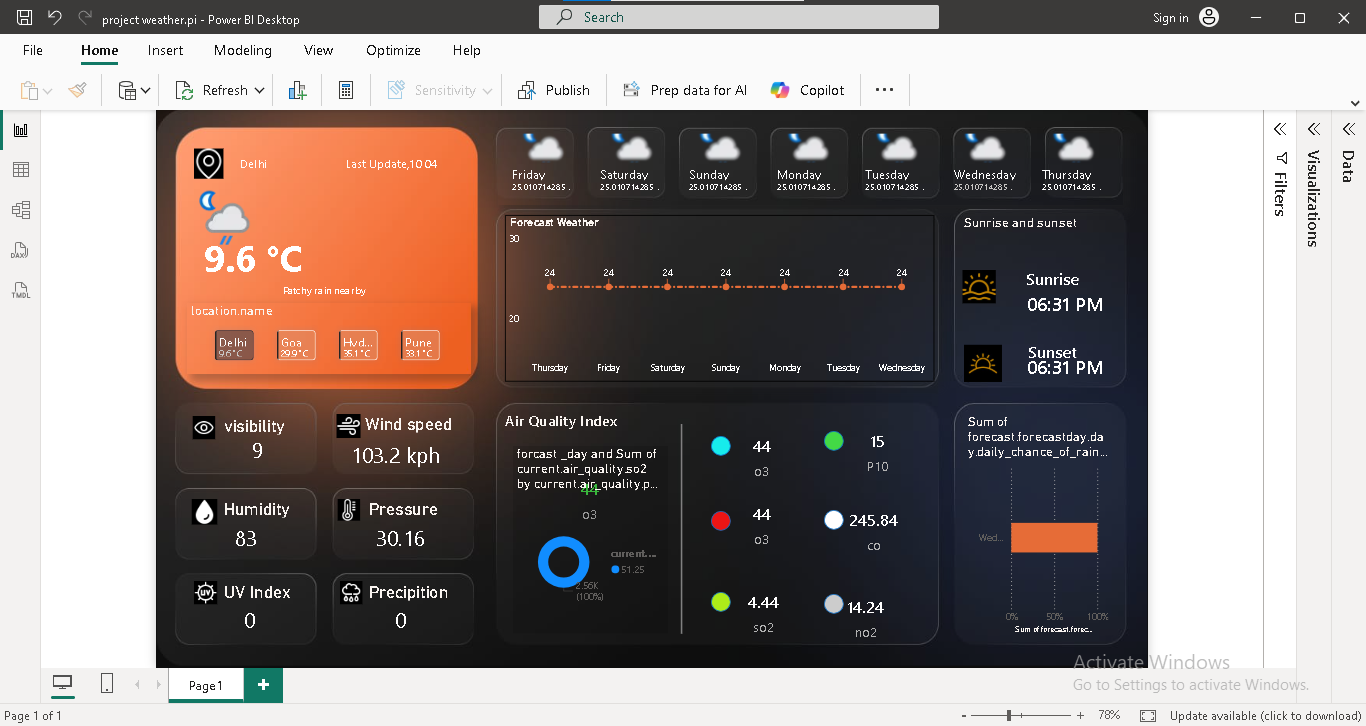

The dashboard page shown, as its layout file describes it:
{"tool":"powerbi","page":{"name":"Page 1","canvas":[1280,720],"ordinal":0},"visuals":[{"type":"advancedSlicerVisual","title":"location.name","fields":{"Values":["location.location.name"]},"box":[39.7,249.4,365.7,90.7],"z":0},{"type":"shape","box":[34,147.4,182.8,85],"z":1000},{"type":"shape","box":[130.4,209.8,172.9,43.9],"z":2000},{"type":"shape","box":[49.6,46.8,153.1,43.9],"z":3000},{"type":"image","box":[49.6,38.3,38.3,60.9],"z":4000},{"type":"shape","box":[202.7,46.8,202.7,43.9],"z":5000},{"type":"cardVisual","fields":{"Data":["Min(currant.current.condition.icon)"]},"box":[8.5,0,157.3,197],"z":6000},{"type":"card","fields":{"Values":["Sum(currant.current.vis_km)"]},"box":[87.9,412.4,86.5,52.4],"z":7000},{"type":"image","box":[19.8,395.4,85,29.8],"z":8000},{"type":"shape","title":"visibility","box":[87.9,395.4,114.8,34],"z":9000},{"type":"image","box":[26.9,501.7,70.9,32.6],"z":10000},{"type":"shape","title":"Humidity","box":[87.9,501.7,114.8,28.3],"z":11000},{"type":"shape","title":"UV Index","box":[87.9,609.4,114.8,28.3],"z":12000},{"type":"shape","title":"Wind speed","box":[269.3,392.6,114.8,28.3],"z":13000},{"type":"shape","title":"Pressure","box":[275,501.7,114.8,28.3],"z":14000},{"type":"shape","title":"Precipition","box":[275,609.4,114.8,28.3],"z":15000},{"type":"image","box":[39.7,608,48.2,29.8],"z":16000},{"type":"image","box":[228.2,608,46.8,29.8],"z":17000},{"type":"image","box":[222.5,392.6,52.4,31.2],"z":18000},{"type":"image","box":[228.2,501.7,41.1,28.3],"z":19000},{"type":"card","fields":{"Values":["mwsures.Wind_Speed"]},"box":[228.2,425.2,161.6,39.7],"z":20000},{"type":"card","fields":{"Values":["Sum(currant.current.humidity)"]},"box":[39.7,534.3,153.1,36.9],"z":21000},{"type":"card","fields":{"Values":["Sum(currant.current.pressure_in)"]},"box":[239.5,534.3,150.2,36.9],"z":22000},{"type":"card","fields":{"Values":["Sum(currant.current.uv)"]},"box":[49.6,637.8,143.1,42.5],"z":23000},{"type":"card","fields":{"Values":["Sum(currant.current.precip_in)"]},"box":[239.5,637.8,150.2,42.5],"z":24000},{"type":"advancedSlicerVisual","fields":{"Values":["forcet day.Day_Name"]},"box":[440.8,24.1,806.5,97.8],"z":25000},{"type":"lineChart","title":"Forecast Weather","fields":{"Category":["Master Table.Day_Name"],"Y":["CountNonNull(forcet day.Day_Name)"]},"box":[450.7,136.1,554.2,215.4],"z":26000},{"type":"shape","title":"Sunrise and sunset","box":[1043.1,136.1,174.3,34],"z":27000},{"type":"shape","box":[1095.6,195.6,122.1,41.2],"z":28000},{"type":"image","box":[972.1,205.9,180.9,42.6],"z":29000},{"type":"shape","box":[1042.6,236.8,175,33.8],"z":30000},{"type":"shape","box":[1111.8,227.9,122.1,41.2],"z":31000},{"type":"hundredPercentStackedBarChart","fields":{"Y":["Sum(forcet day.forecast.forecastday.day.daily_chance_of_rain)"],"Category":["forcet day.Day_Name"]},"box":[1042.6,392.6,191.2,288.2],"z":32000},{"type":"shape","box":[1095.6,289.7,122.1,41.2],"z":33000},{"type":"shape","box":[1111.8,310.3,122.1,41.2],"z":34000},{"type":"image","box":[1042.6,301.5,48.5,50],"z":35000},{"type":"shape","title":"Air Quality Index","box":[450.7,386.9,174.3,34],"z":36000},{"type":"card","fields":{"Values":["Sum(currant.current.air_quality.pm10)"]},"box":[850.4,408.2,161.6,65.2],"z":37000},{"type":"card","fields":{"Values":["Sum(currant.current.air_quality.co)"]},"box":[844.7,510.2,161.6,65.2],"z":38000},{"type":"card","fields":{"Values":["Sum(currant.current.air_quality.no2)"]},"box":[834.8,622.2,161.6,65.2],"z":39000},{"type":"card","fields":{"Values":["Sum(currant.current.air_quality.o3)"]},"box":[700.2,413.9,161.6,65.2],"z":40000},{"type":"card","fields":{"Values":["Sum(currant.current.air_quality.o3)"]},"box":[700.2,501.7,161.6,65.2],"z":41000},{"type":"card","fields":{"Values":["Sum(currant.current.air_quality.so2)"]},"box":[703,615.1,161.6,65.2],"z":42000},{"type":"shape","box":[715.7,622.2,25.5,25.5],"z":43000},{"type":"shape","box":[715.7,517.3,25.5,25.5],"z":44000},{"type":"shape","box":[715.7,420.9,25.5,25.5],"z":45000},{"type":"shape","box":[861.7,413.9,25.5,25.5],"z":46000},{"type":"shape","box":[861.7,515.9,25.5,25.5],"z":47000},{"type":"shape","box":[861.7,625,25.5,25.5],"z":48000},{"type":"shape","box":[591,405.4,174.3,270.7],"z":49000},{"type":"card","fields":{"Values":["Sum(currant.current.air_quality.o3)"]},"box":[479.1,469.1,161.6,65.2],"z":50000},{"type":"donutChart","box":[460.6,433.7,199.8,242.4],"z":51000}]}

Visuals, with their boxes on the page's 1280x720 design canvas (x1, y1, x2, y2). These are canvas units, not pixel positions in the 1366x726 screenshot, which may show the page scaled, cropped or inside an application window:
"location.name" advancedSlicerVisual: detection(40, 249, 405, 340)
shape: detection(34, 147, 217, 232)
shape: detection(130, 210, 303, 254)
shape: detection(50, 47, 203, 91)
image: detection(50, 38, 88, 99)
shape: detection(203, 47, 405, 91)
cardVisual - Min(currant.current.condition.icon): detection(8, 0, 166, 197)
card - Sum(currant.current.vis_km): detection(88, 412, 174, 465)
image: detection(20, 395, 105, 425)
"visibility" shape: detection(88, 395, 203, 429)
image: detection(27, 502, 98, 534)
"Humidity" shape: detection(88, 502, 203, 530)
"UV Index" shape: detection(88, 609, 203, 638)
"Wind speed" shape: detection(269, 393, 384, 421)
"Pressure" shape: detection(275, 502, 390, 530)
"Precipition" shape: detection(275, 609, 390, 638)
image: detection(40, 608, 88, 638)
image: detection(228, 608, 275, 638)
image: detection(222, 393, 275, 424)
image: detection(228, 502, 269, 530)
card - mwsures.Wind_Speed: detection(228, 425, 390, 465)
card - Sum(currant.current.humidity): detection(40, 534, 193, 571)
card - Sum(currant.current.pressure_in): detection(240, 534, 390, 571)
card - Sum(currant.current.uv): detection(50, 638, 193, 680)
card - Sum(currant.current.precip_in): detection(240, 638, 390, 680)
advancedSlicerVisual - forcet day.Day_Name: detection(441, 24, 1247, 122)
"Forecast Weather" lineChart: detection(451, 136, 1005, 352)
"Sunrise and sunset" shape: detection(1043, 136, 1217, 170)
shape: detection(1096, 196, 1218, 237)
image: detection(972, 206, 1153, 248)
shape: detection(1043, 237, 1218, 271)
shape: detection(1112, 228, 1234, 269)
hundredPercentStackedBarChart - Sum(forcet day.forecast.forecastday.day.daily_chance_of_rain) x forcet day.Day_Name: detection(1043, 393, 1234, 681)
shape: detection(1096, 290, 1218, 331)
shape: detection(1112, 310, 1234, 352)
image: detection(1043, 302, 1091, 352)
"Air Quality Index" shape: detection(451, 387, 625, 421)
card - Sum(currant.current.air_quality.pm10): detection(850, 408, 1012, 473)
card - Sum(currant.current.air_quality.co): detection(845, 510, 1006, 575)
card - Sum(currant.current.air_quality.no2): detection(835, 622, 996, 687)
card - Sum(currant.current.air_quality.o3): detection(700, 414, 862, 479)
card - Sum(currant.current.air_quality.o3): detection(700, 502, 862, 567)
card - Sum(currant.current.air_quality.so2): detection(703, 615, 865, 680)
shape: detection(716, 622, 741, 648)
shape: detection(716, 517, 741, 543)
shape: detection(716, 421, 741, 446)
shape: detection(862, 414, 887, 439)
shape: detection(862, 516, 887, 541)
shape: detection(862, 625, 887, 650)
shape: detection(591, 405, 765, 676)
card - Sum(currant.current.air_quality.o3): detection(479, 469, 641, 534)
donutChart: detection(461, 434, 660, 676)
